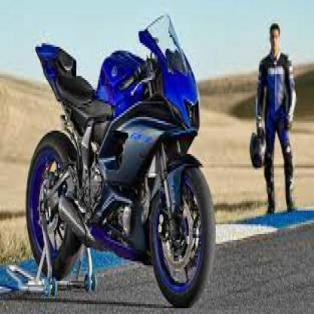Motocicleta: (22, 15, 218, 307)
